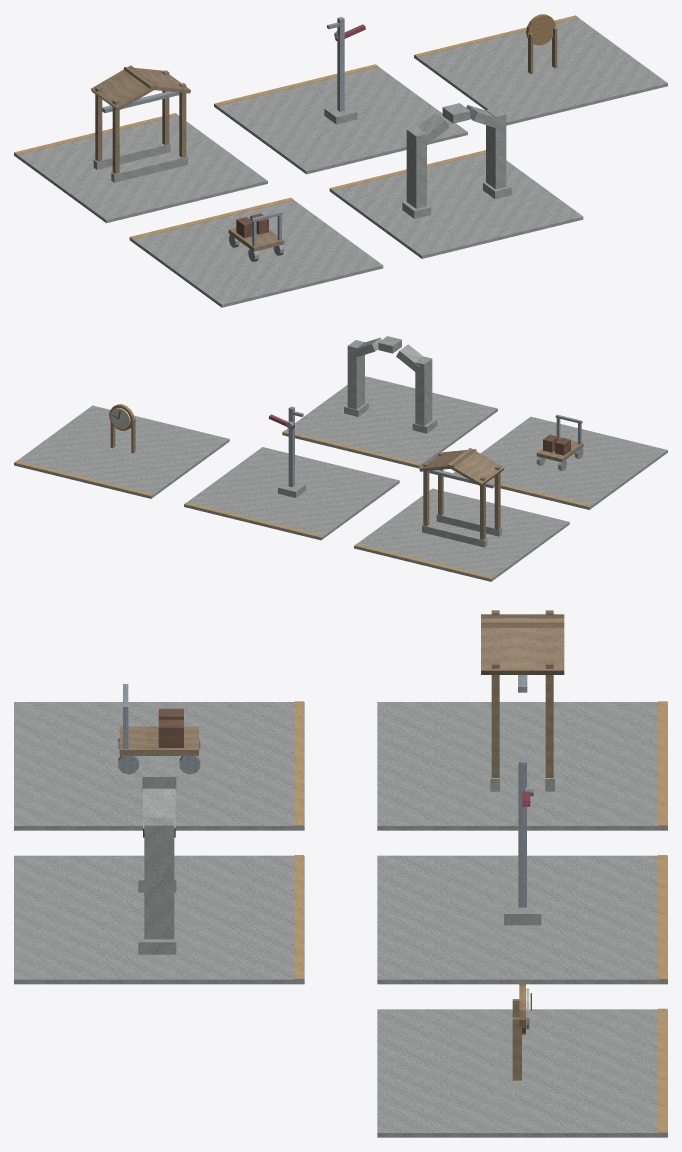
The model's file is level_blockout_kit_wld_12_p04.glb.
3 views of the same model, one above another, from view 1: azimuth 30°, elevation 25°; view 2: azimuth 150°, elevation 25°; view 3: azimuth 270°, elevation 25° (orthographic). The views are drawn at different scales.
Visible parts, largest first — view 1: level_blockout_kit_wld_12_p04; view 2: level_blockout_kit_wld_12_p04; view 3: level_blockout_kit_wld_12_p04.
Part boxes in pixels (box(x1,y1,x2,y2)): level_blockout_kit_wld_12_p04: box(14, 14, 667, 307); level_blockout_kit_wld_12_p04: box(14, 336, 667, 581); level_blockout_kit_wld_12_p04: box(14, 610, 667, 1137).
Size of the model in its own units: 19.65 by 3.43 by 12.6.
9 materials, 9 textured.
